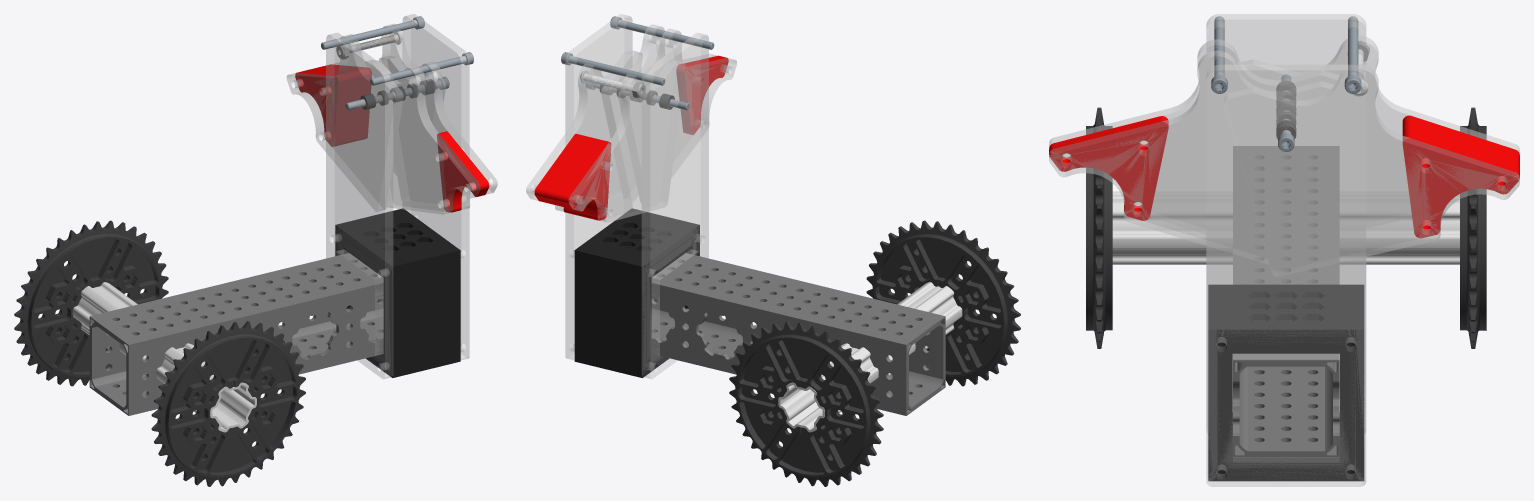
3 views of the same model, side by side, from view 1: azimuth 30°, elevation 25°; view 2: azimuth 150°, elevation 25°; view 3: azimuth 270°, elevation 25° (orthographic). The views are drawn at different scales.
Visible parts, largest first — view 1: #35 Billet Sprocket - 36T (REV-21-3720) (×2), 2713-2025-CHASSIS-18 (×4), 2713-2025-CHASSIS-27, 2713-2025-CHASSIS-16 (×2), 2713-2025-CHASSIS-17, 2713-2025-CHASSIS-20, MAXSpline Shaft 7.5", 2713-2025-CHASSIS-19, Socket head cap screw #10-32 x 2.75 (×2); view 2: #35 Billet Sprocket - 36T (REV-21-3720) (×2), 2713-2025-CHASSIS-16 (×2), 2713-2025-CHASSIS-27, 2713-2025-CHASSIS-18 (×4), 2713-2025-CHASSIS-17, 2713-2025-CHASSIS-20, MAXSpline Shaft 7.5", 2713-2025-CHASSIS-19, Socket head cap screw #10-32 x 2.75 (×2); view 3: 2713-2025-CHASSIS-18 (×4), 2713-2025-CHASSIS-16 (×2), 2713-2025-CHASSIS-27, 2713-2025-CHASSIS-17, MAXSpline Shaft 7.5", #35 Billet Sprocket - 36T (REV-21-3720) (×2), 2713-2025-CHASSIS-20, 2713-2025-CHASSIS-19, Socket head cap screw #10-32 x 2.75 (×2).
Boxes of the visible parts, x1=… form: #35 Billet Sprocket - 36T (REV-21-3720) (×2): x1=14, y1=220, x2=305, y2=486; 2713-2025-CHASSIS-18 (×4): x1=286, y1=24, x2=497, y2=214; 2713-2025-CHASSIS-27: x1=89, y1=253, x2=383, y2=415; 2713-2025-CHASSIS-16 (×2): x1=326, y1=14, x2=469, y2=378; 2713-2025-CHASSIS-17: x1=335, y1=208, x2=460, y2=377; 2713-2025-CHASSIS-20: x1=295, y1=64, x2=371, y2=146; MAXSpline Shaft 7.5": x1=72, y1=282, x2=256, y2=432; 2713-2025-CHASSIS-19: x1=437, y1=131, x2=489, y2=212; Socket head cap screw #10-32 x 2.75 (×2): x1=321, y1=16, x2=473, y2=85; #35 Billet Sprocket - 36T (REV-21-3720) (×2): x1=729, y1=220, x2=1020, y2=486; 2713-2025-CHASSIS-16 (×2): x1=565, y1=14, x2=708, y2=378; 2713-2025-CHASSIS-27: x1=651, y1=253, x2=945, y2=415; 2713-2025-CHASSIS-18 (×4): x1=526, y1=24, x2=736, y2=222; 2713-2025-CHASSIS-17: x1=574, y1=208, x2=699, y2=377; 2713-2025-CHASSIS-20: x1=534, y1=134, x2=611, y2=220; MAXSpline Shaft 7.5": x1=778, y1=282, x2=962, y2=432; 2713-2025-CHASSIS-19: x1=676, y1=55, x2=728, y2=134; Socket head cap screw #10-32 x 2.75 (×2): x1=561, y1=16, x2=714, y2=85; 2713-2025-CHASSIS-18 (×4): x1=1049, y1=35, x2=1519, y2=276; 2713-2025-CHASSIS-16 (×2): x1=1206, y1=14, x2=1365, y2=486; 2713-2025-CHASSIS-27: x1=1233, y1=146, x2=1339, y2=457; 2713-2025-CHASSIS-17: x1=1208, y1=284, x2=1364, y2=481; MAXSpline Shaft 7.5": x1=1112, y1=191, x2=1459, y2=264; #35 Billet Sprocket - 36T (REV-21-3720) (×2): x1=1086, y1=107, x2=1486, y2=348; 2713-2025-CHASSIS-20: x1=1402, y1=115, x2=1519, y2=238; 2713-2025-CHASSIS-19: x1=1049, y1=116, x2=1168, y2=220; Socket head cap screw #10-32 x 2.75 (×2): x1=1211, y1=16, x2=1361, y2=93.
Bounding box in the file's own units: 0.2716 × 0.2377 × 0.2238.
